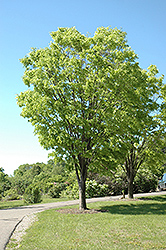tree: (14, 25, 150, 208)
